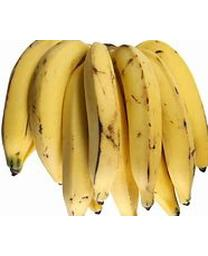banana: (3, 40, 206, 214)
